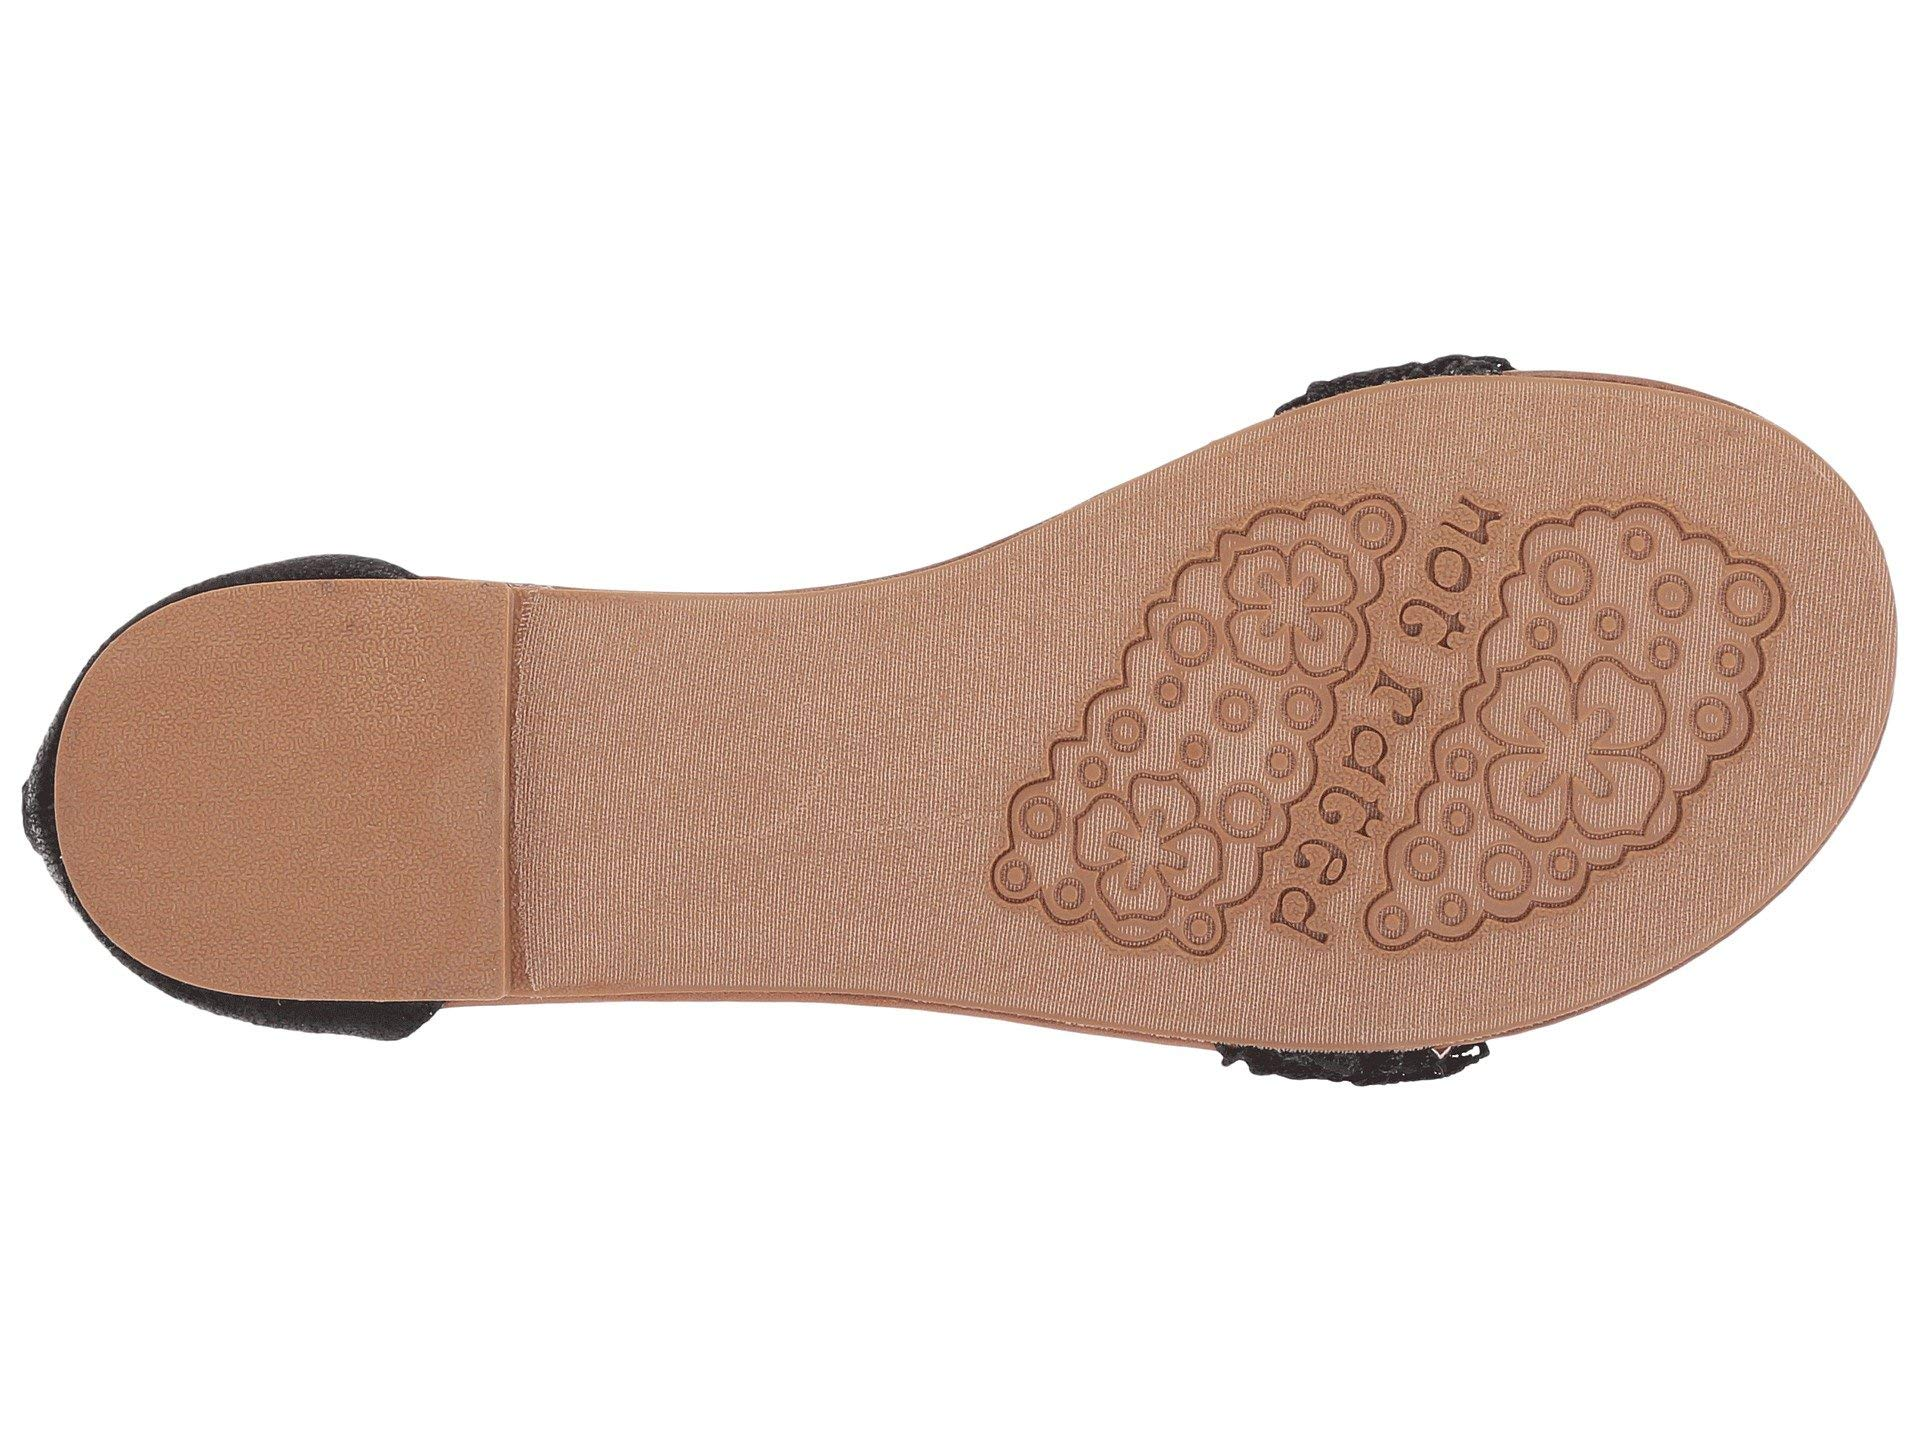circle: (1054, 538, 1677, 918), (1684, 493, 1822, 737)
star: (1054, 538, 1677, 918)
text: (1054, 538, 1677, 918)
